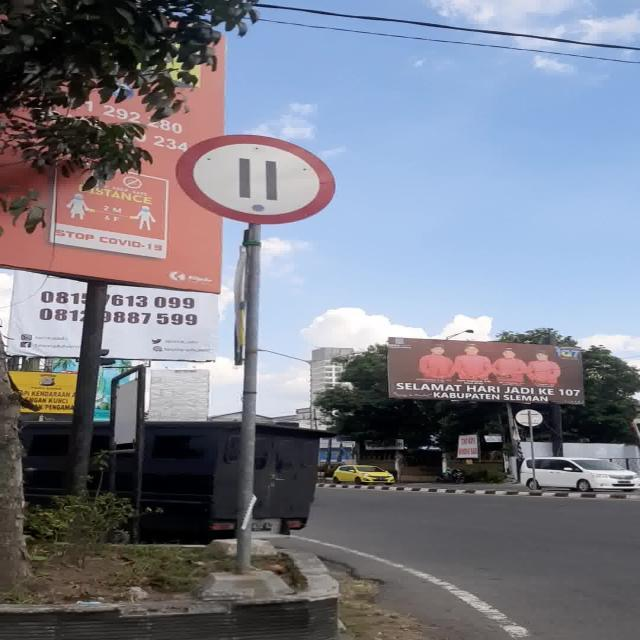Larangan Muatan - 10 ton: (176, 134, 335, 223)
